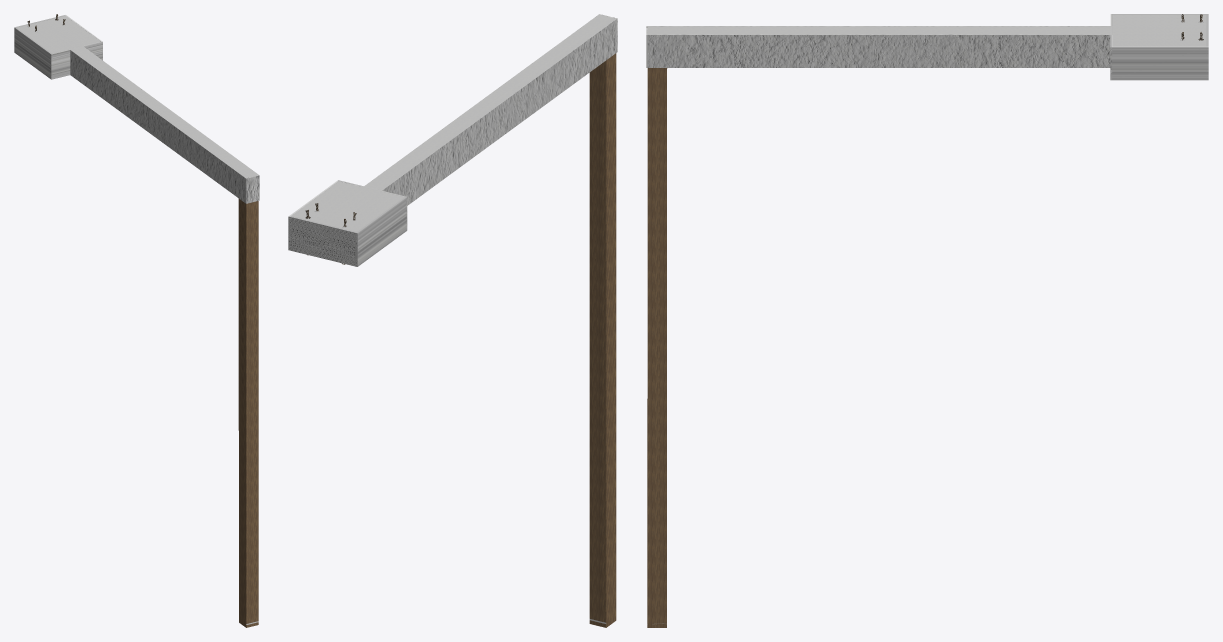
File: pasillo_caida.fbx
The picture shows the model from 3 angles, left to right: view 1: azimuth 30°, elevation 25°; view 2: azimuth 150°, elevation 25°; view 3: azimuth 270°, elevation 25°; orthographic projection. The views are drawn at different scales.
Visible parts, largest first — view 1: suelo y caida, paredes/pasillo, techo; view 2: suelo y caida, paredes/pasillo, techo; view 3: paredes/pasillo, suelo y caida, techo.
Part boxes in pixels (x1=…): suelo y caida: x1=238, y1=198, x2=258, y2=627; paredes/pasillo: x1=14, y1=15, x2=259, y2=203; techo: x1=17, y1=15, x2=258, y2=177; suelo y caida: x1=589, y1=53, x2=616, y2=627; paredes/pasillo: x1=288, y1=14, x2=617, y2=266; techo: x1=291, y1=14, x2=615, y2=231; paredes/pasillo: x1=646, y1=14, x2=1208, y2=80; suelo y caida: x1=647, y1=68, x2=667, y2=627; techo: x1=647, y1=15, x2=1206, y2=46.
Size of the model in its own units: 1766 by 14879 by 12618.
